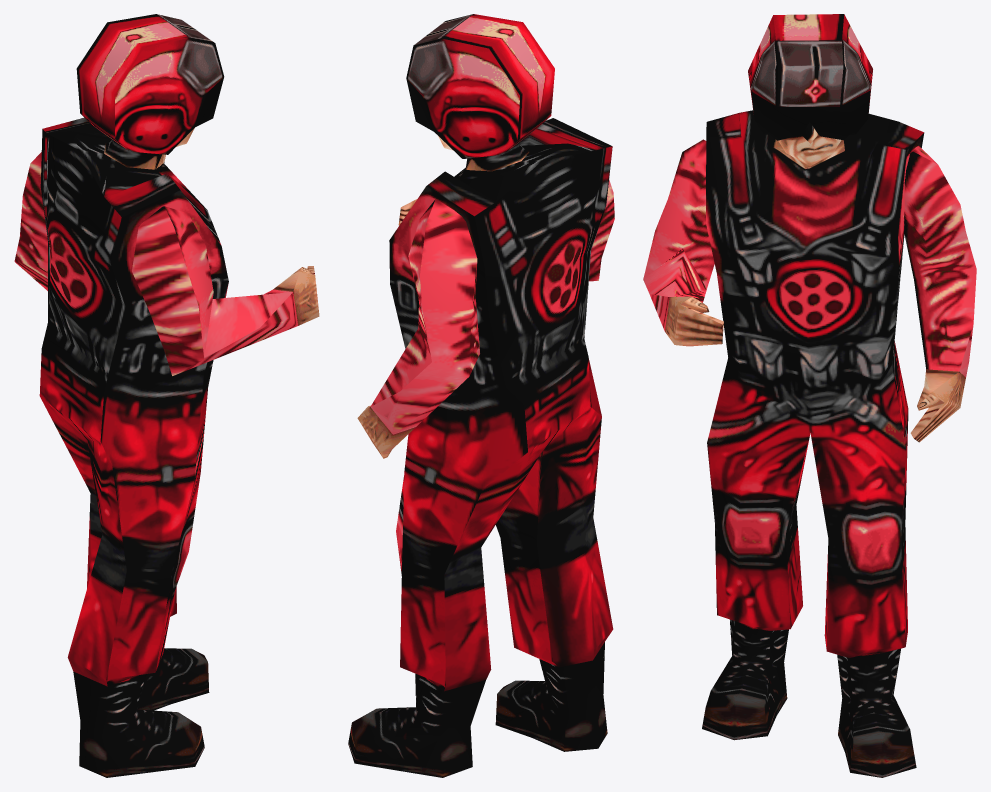
File: hvyweapon2_red.glb
3 views of the same model, side by side, from view 1: azimuth 30°, elevation 25°; view 2: azimuth 150°, elevation 25°; view 3: azimuth 270°, elevation 25° (orthographic). The views are drawn at different scales.
Parts seen in each view (by area): view 1: hvyweapon2; view 2: hvyweapon2; view 3: hvyweapon2.
Boxes of the visible parts, left/top/right/bottom form: hvyweapon2: left=14, top=14, right=319, bottom=777; hvyweapon2: left=348, top=14, right=614, bottom=777; hvyweapon2: left=643, top=14, right=976, bottom=777.
Bounding box in the file's own units: 25.59 × 77.83 × 33.23.
2 materials, 2 textured.
